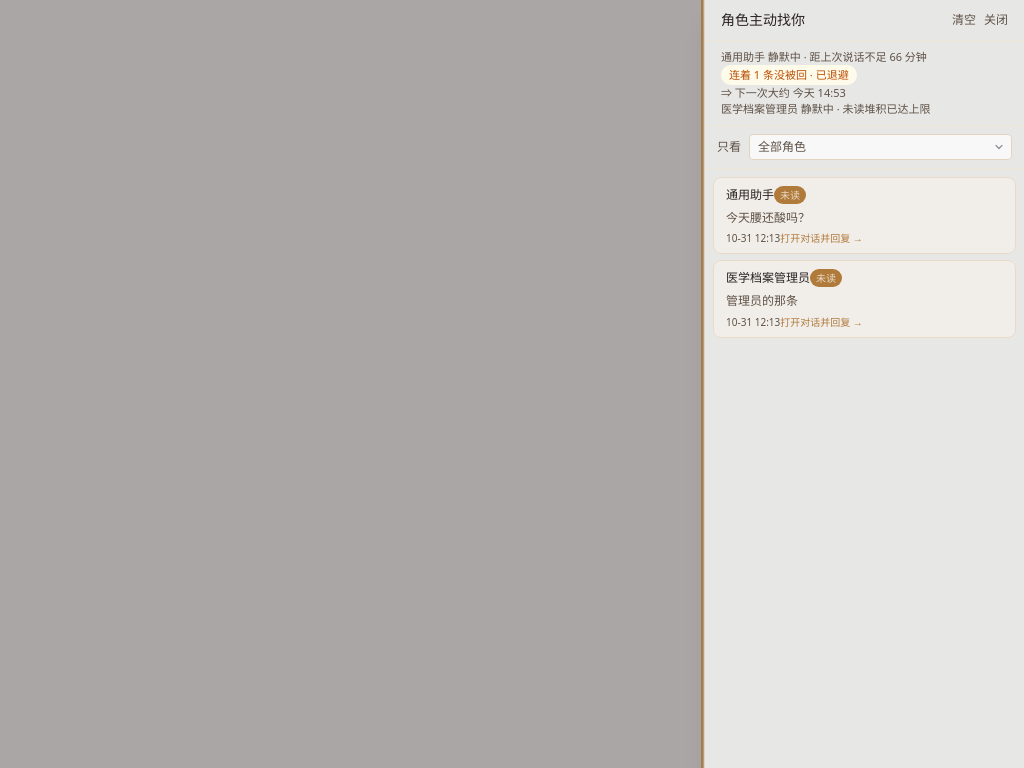
抽屉那一格「她此刻为什么静默」 › 筛了「只看」某个角色，这一格也跟着只剩他 —— 否则筛一个人看三个人的状态
Expected: the element with test id "quiet-status" is shown, x1=705 y1=41 x2=1023 y2=126
Select "医学档案管理员" in the dropdown labelled "只看" at {"x": 880, "y": 147}, box x1=749 y1=134 x2=1012 y2=160
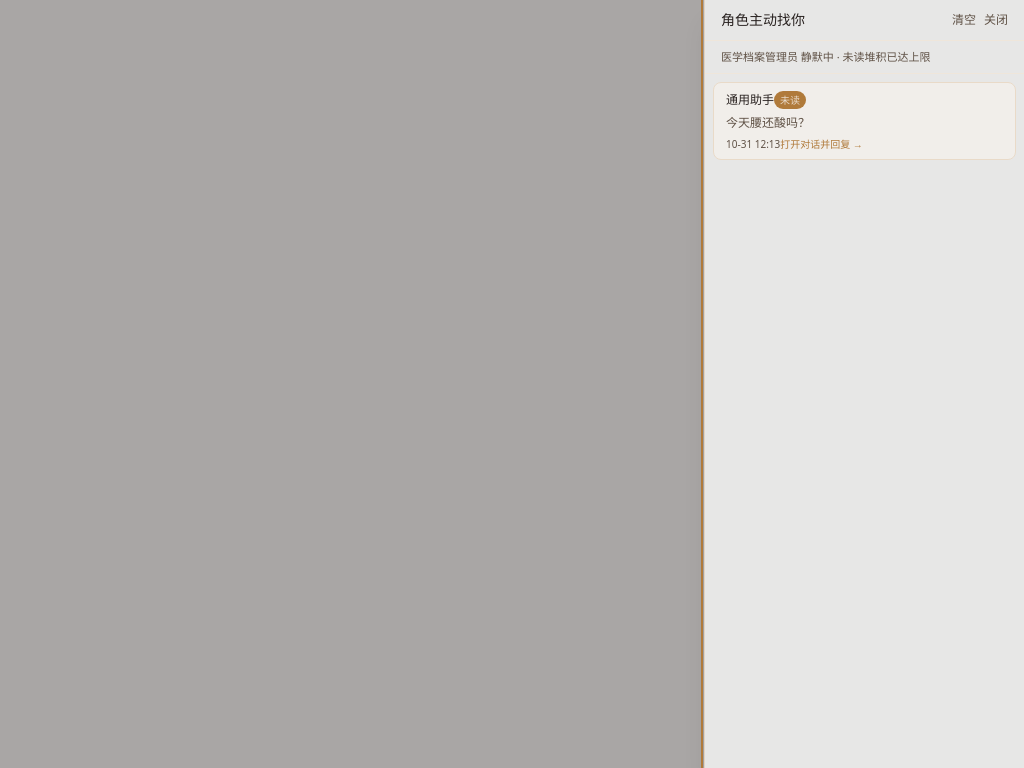
Expected: the element with test id "quiet-status" shows "未读堆积已达上限", x1=721 y1=49 x2=930 y2=64
Now the element with test id "quiet-status" no longer shows "通用助手"
